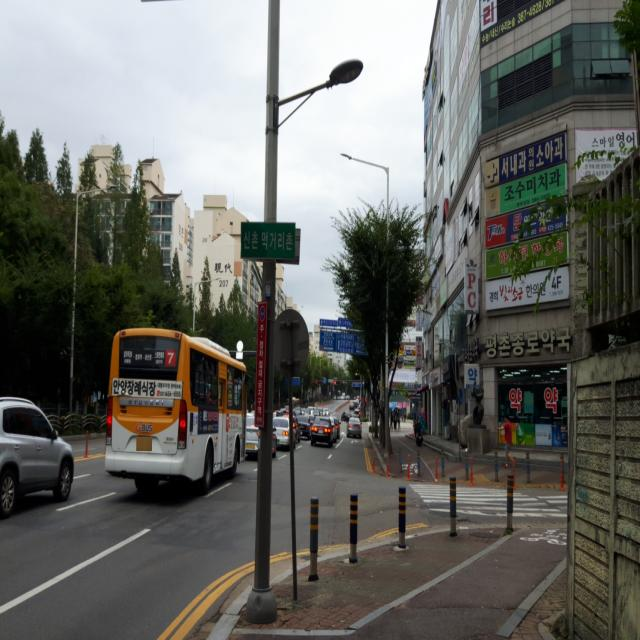횡단보도: (409, 483, 568, 518)
